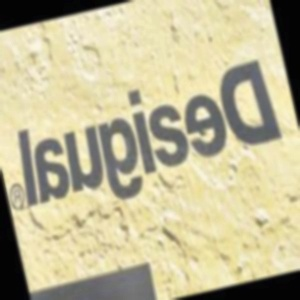desigual: (286, 23, 289, 69)
